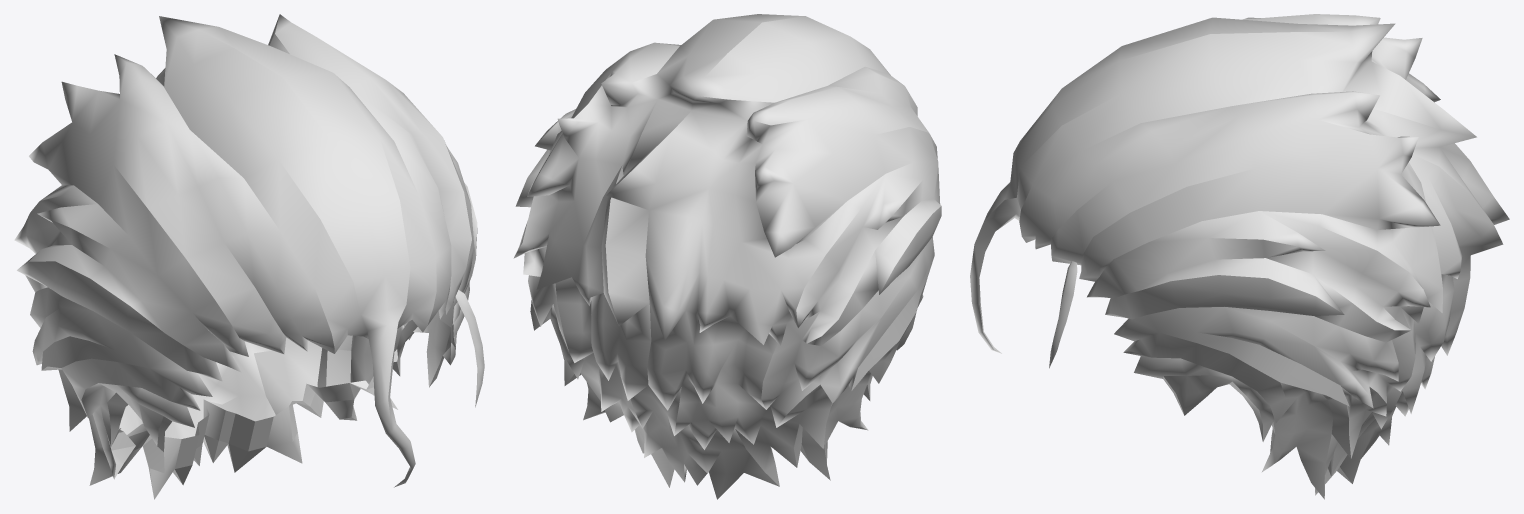
The model's file is hair1.glb.
3 renders of one model, left to right at view 1: azimuth 30°, elevation 25°; view 2: azimuth 150°, elevation 25°; view 3: azimuth 270°, elevation 25°, orthographic. The views are drawn at different scales.
Parts seen in each view (by area): view 1: Object_2; view 2: Object_2; view 3: Object_2.
Boxes of the visible parts, left/top/right/bottom form: Object_2: left=14, top=14, right=484, bottom=499; Object_2: left=513, top=14, right=941, bottom=499; Object_2: left=970, top=14, right=1509, bottom=499.
Size of the model in its own units: 0.5115 by 0.5596 by 0.6251.
1 material, 1 textured.
